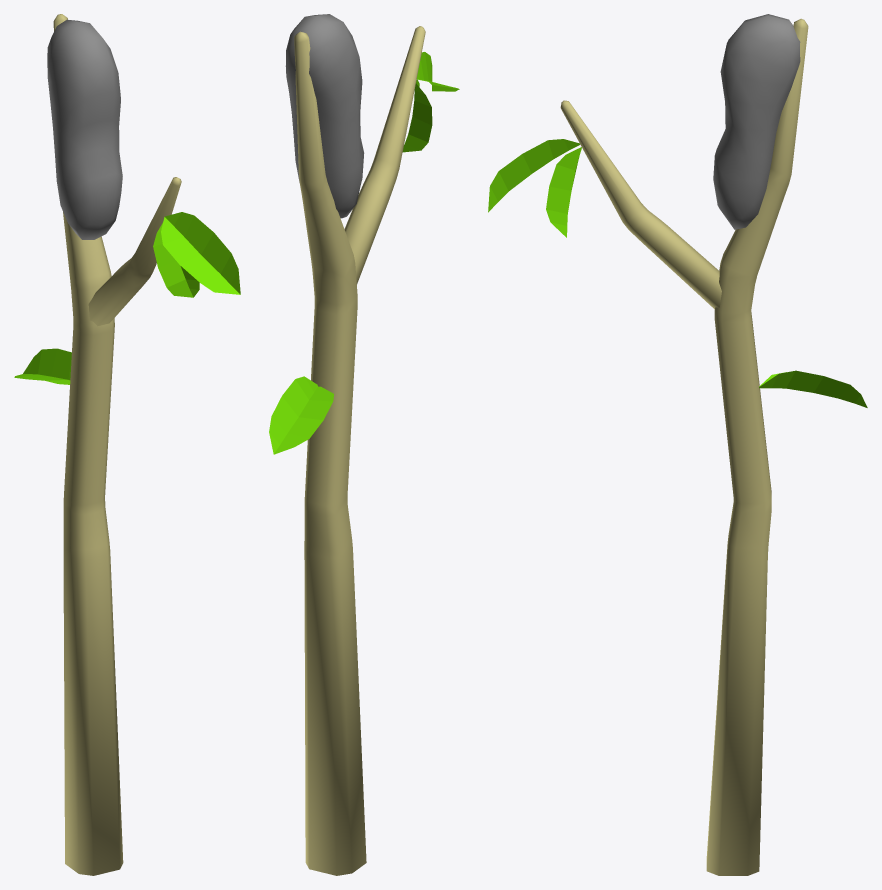
The model's file is どろつき木の枝.fbx.
3 renders of one model, left to right at view 1: azimuth 30°, elevation 25°; view 2: azimuth 150°, elevation 25°; view 3: azimuth 270°, elevation 25°, orthographic. The views are drawn at different scales.
Parts seen in each view (by area): view 1: どろeda; view 2: どろeda; view 3: どろeda.
Boxes of the visible parts, x1,y1,x2,y2 form: どろeda: (14,14,240,875); どろeda: (269,14,459,875); どろeda: (488,14,867,875).
Bounding box in the file's own units: 0.3739 × 5.1 × 2.07.
